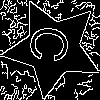C: (27, 22, 80, 67)
